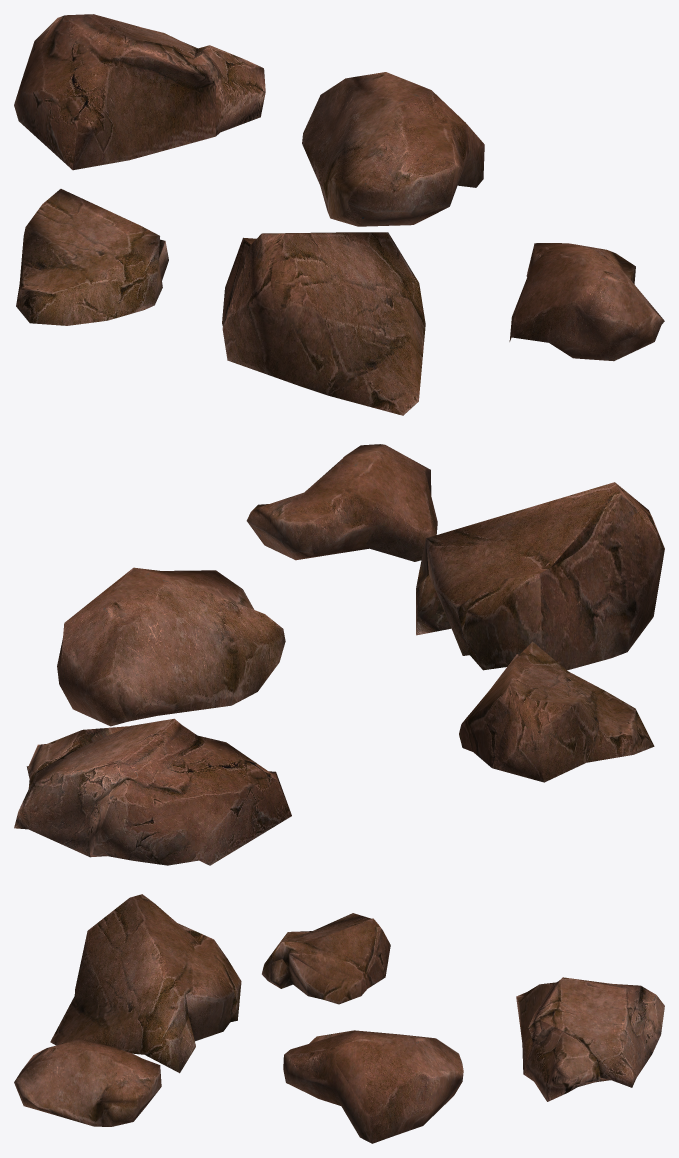
The model's file is Rock_Stone5.glb.
3 renders of one model, top to bottom at view 1: azimuth 30°, elevation 25°; view 2: azimuth 150°, elevation 25°; view 3: azimuth 270°, elevation 25°, orthographic. The views are drawn at different scales.
Parts seen in each view (by area): view 1: xiutz_stone5; view 2: xiutz_stone5; view 3: xiutz_stone5.
Part boxes in pixels (bbox=[...]): xiutz_stone5: bbox=[14, 14, 664, 415]; xiutz_stone5: bbox=[14, 444, 664, 865]; xiutz_stone5: bbox=[14, 894, 664, 1143].
Size of the model in its own units: 6.84 by 2.06 by 10.11.
1 material, 1 textured.
